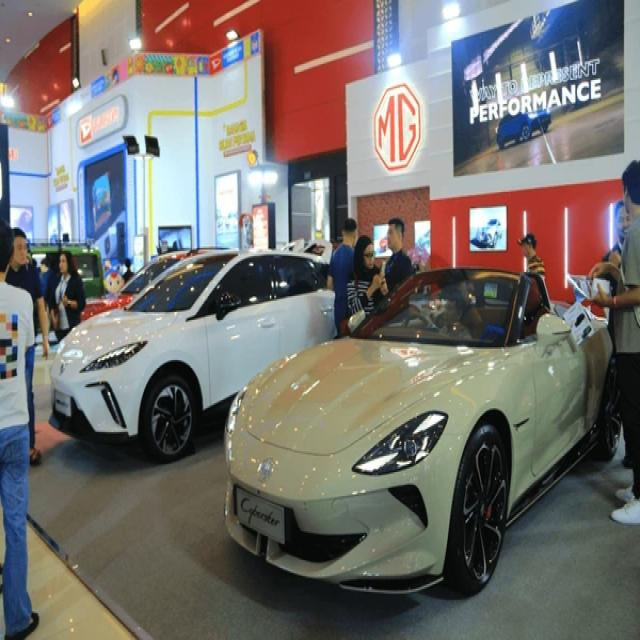mg: (373, 87, 423, 170)
